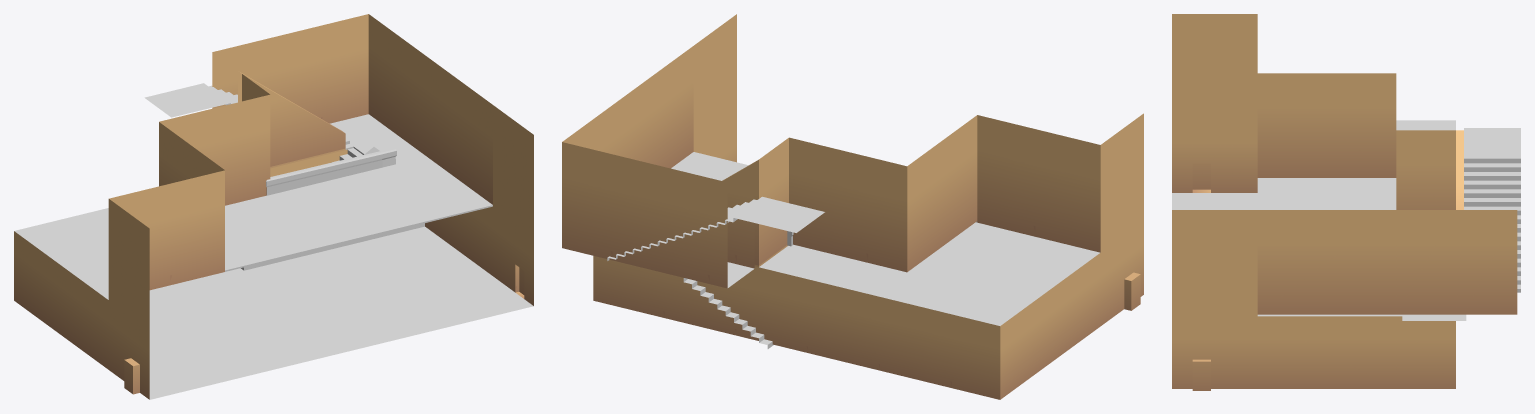
The model's file is Appartment interior.fbx.
The picture shows the model from 3 angles, left to right: view 1: azimuth 30°, elevation 25°; view 2: azimuth 150°, elevation 25°; view 3: azimuth 270°, elevation 25°; orthographic projection. The views are drawn at different scales.
Parts seen in each view (by area): view 1: Apartment, Stairs railing, Stairs; view 2: Apartment, Stairs; view 3: Apartment, Stairs.
Boxes of the visible parts, left/top/right/bottom form: Apartment: left=14, top=14, right=533, bottom=399; Stairs railing: left=241, top=143, right=424, bottom=270; Stairs: left=144, top=83, right=362, bottom=162; Apartment: left=562, top=14, right=1143, bottom=399; Stairs: left=607, top=196, right=824, bottom=348; Apartment: left=1172, top=14, right=1517, bottom=390; Stairs: left=1402, top=128, right=1520, bottom=320.
Size of the model in its own units: 41.3 by 17.07 by 29.48.
Materials: 2 (1 with a texture image).
